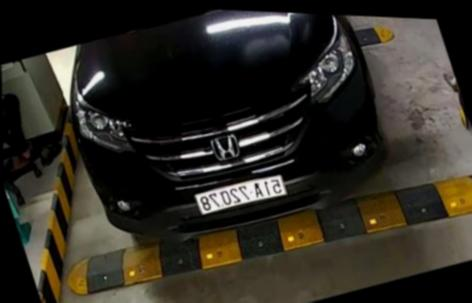License_Plate: (196, 167, 289, 224)
